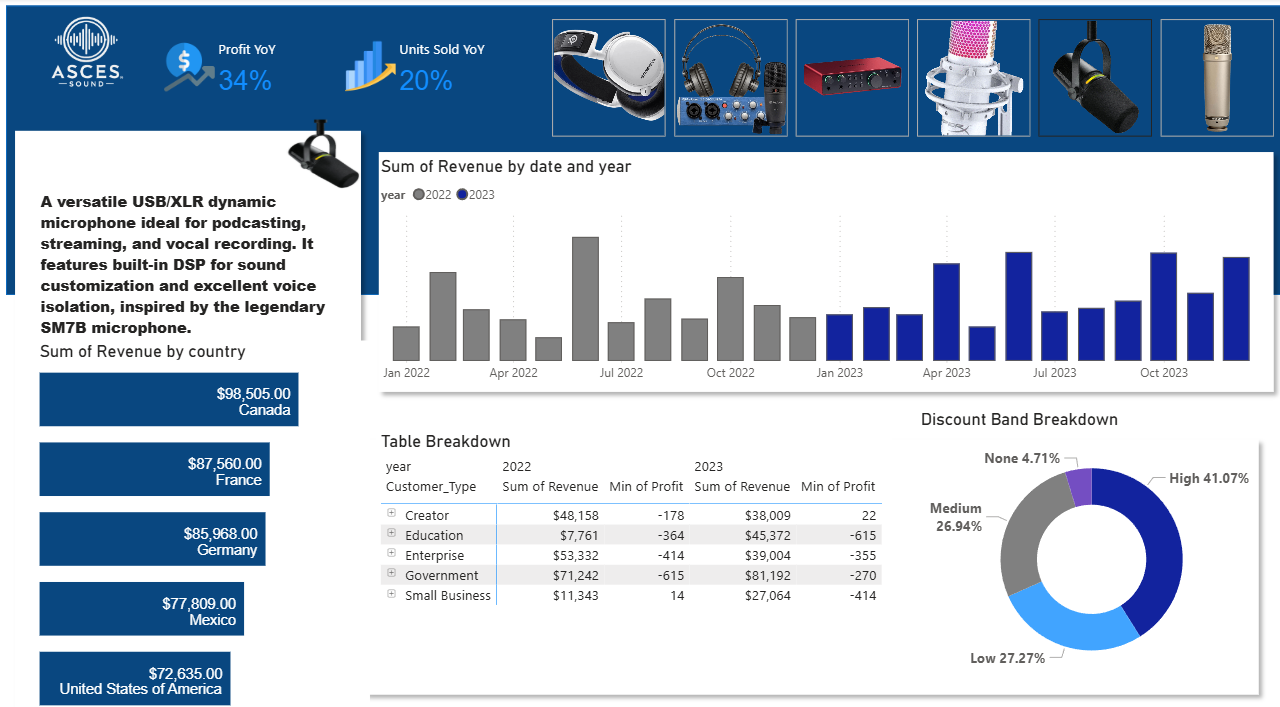

What the dashboard file says about the page in this screenshot:
{"tool":"powerbi","page":{"name":"Page 1","canvas":[1280,720],"ordinal":0},"visuals":[{"type":"shape","box":[9.6,6.9,1270.7,288.2],"z":0},{"type":"shape","box":[9.6,123.5,362.3,591.4],"z":1000},{"type":"shape","box":[356.8,430.9,908.4,271.7],"z":2000},{"type":"shape","box":[371.9,144.1,908.4,256.6],"z":3000},{"type":"image","box":[20.6,6.9,130.4,89.2],"z":4000},{"type":"advancedSlicerVisual","fields":{"Values":["Query1.image_url"]},"box":[548.9,16.5,731.4,127.6],"z":5000},{"type":"cardVisual","fields":{"Data":["Min(Query1.product)"]},"box":[263.5,96.1,108.4,130.4],"z":6000},{"type":"cardVisual","fields":{"Data":["Min(Query1.Description)"]},"box":[27.4,144.1,326.6,234.6],"z":7000},{"type":"clusteredBarChart","fields":{"Category":["Query1.country"],"Y":["Sum(Query1.Revenue)"]},"box":[38.4,340.3,333.4,370.5],"z":8000},{"type":"columnChart","fields":{"Y":["Sum(Query1.Revenue)"],"Category":["Query1.date"],"Series":["Query1.year"]},"box":[378.7,156.4,886.5,234.6],"z":9000},{"type":"donutChart","title":" Discount Band Breakdown","fields":{"Category":["Query1.discount_Band"],"Y":["Sum(Query1.Revenue)"]},"box":[915.3,408.9,349.9,279.9],"z":10000},{"type":"pivotTable","title":"Table Breakdown","fields":{"Rows":["Query1.Customer_Type","Query1.product"],"Columns":["Query1.year"],"Values":["Sum(Query1.Revenue)","Min(Query1.Profit)"]},"box":[378.7,430.9,513.2,218.2],"z":11000},{"type":"cardVisual","fields":{"Data":["Query1.Profit YoY","Query1.Units Sold YoY"]},"box":[150.9,16.5,362.3,107],"z":12000},{"type":"qnaVisual","box":[371.9,701.6,14.9,18.7],"z":13000}]}

Visuals, with their boxes in screenshot pixels (x1, y1, x2, y2), scaled from the page's 1280x720 canvas onto the 1280x707 screenshot:
shape: 10 7 1279 290
shape: 10 121 372 702
shape: 357 423 1265 690
shape: 372 141 1279 393
image: 21 7 151 94
advancedSlicerVisual - Query1.image_url: 549 16 1279 141
cardVisual - Min(Query1.product): 264 94 372 222
cardVisual - Min(Query1.Description): 27 141 354 372
clusteredBarChart - Query1.country x Sum(Query1.Revenue): 38 334 372 698
columnChart - Sum(Query1.Revenue) x Query1.date: 379 154 1265 384
" Discount Band Breakdown" donutChart: 915 402 1265 676
"Table Breakdown" pivotTable: 379 423 892 637
cardVisual - Query1.Profit YoY x Query1.Units Sold YoY: 151 16 513 121
qnaVisual: 372 689 387 706
